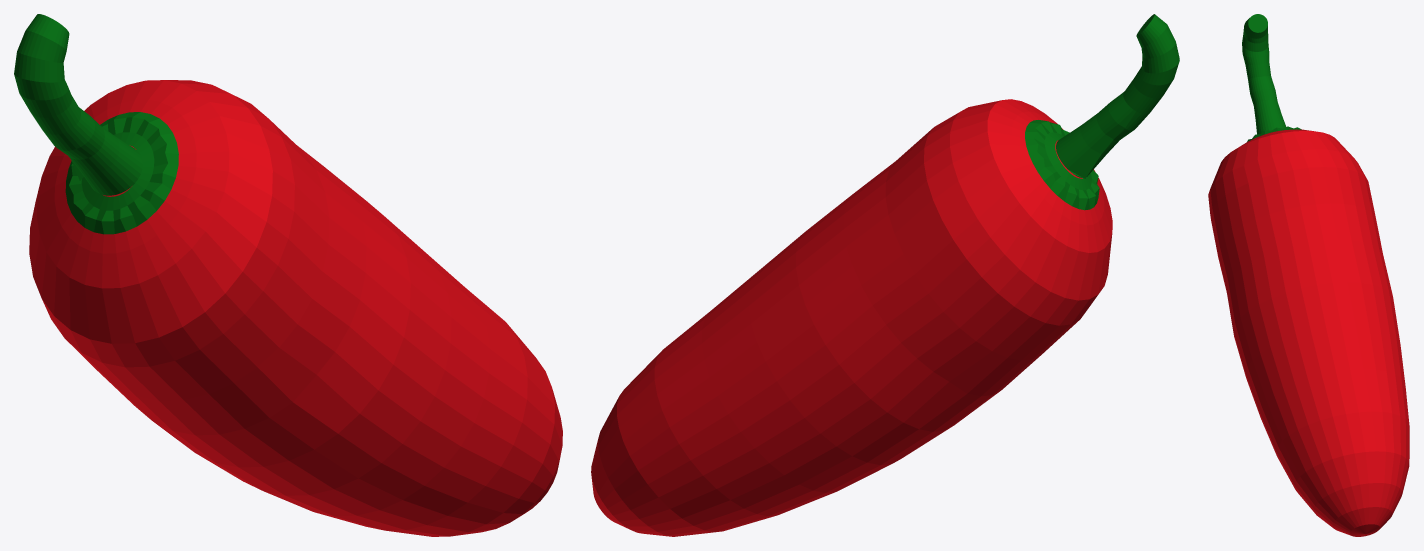
Rendered from chile_rojo.fbx.
3 views of the same model, side by side, from view 1: azimuth 30°, elevation 25°; view 2: azimuth 150°, elevation 25°; view 3: azimuth 270°, elevation 25° (orthographic). The views are drawn at different scales.
Visible parts, largest first — view 1: Chile_Rojo; view 2: Chile_Rojo; view 3: Chile_Rojo.
Part boxes in pixels (x1=…): Chile_Rojo: x1=14, y1=14, x2=562, y2=536; Chile_Rojo: x1=591, y1=14, x2=1179, y2=536; Chile_Rojo: x1=1208, y1=14, x2=1409, y2=536.
Bounding box in the file's own units: 274 × 293 × 142.
